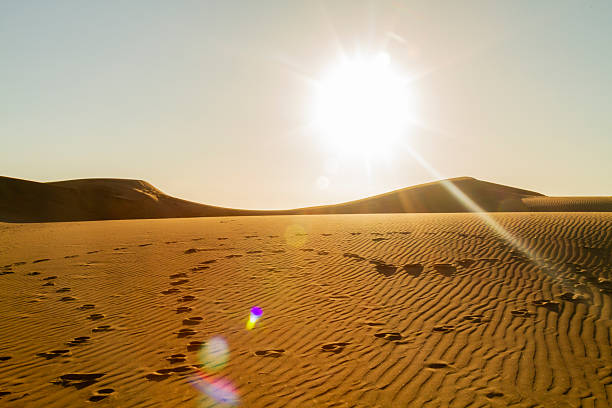human_footprint: (145, 365, 199, 381), (52, 373, 104, 388), (370, 260, 396, 276), (532, 299, 560, 312), (321, 342, 350, 354), (88, 388, 114, 401), (37, 349, 70, 359), (433, 263, 455, 276), (402, 263, 423, 275), (66, 336, 90, 346), (254, 349, 284, 357), (374, 332, 402, 340), (166, 353, 186, 363), (463, 314, 487, 322), (510, 308, 534, 316), (186, 341, 205, 351), (182, 316, 203, 325), (176, 328, 196, 337), (425, 361, 450, 368), (432, 325, 454, 332), (92, 325, 113, 332), (485, 391, 503, 398), (160, 288, 180, 294), (175, 306, 191, 313), (169, 272, 187, 278), (170, 279, 188, 285), (87, 313, 104, 319), (178, 295, 195, 301), (77, 304, 94, 309), (59, 296, 76, 301), (32, 258, 49, 263), (42, 275, 57, 280), (56, 287, 70, 292), (42, 281, 54, 286), (64, 254, 78, 258), (0, 356, 11, 361), (138, 243, 152, 246)
